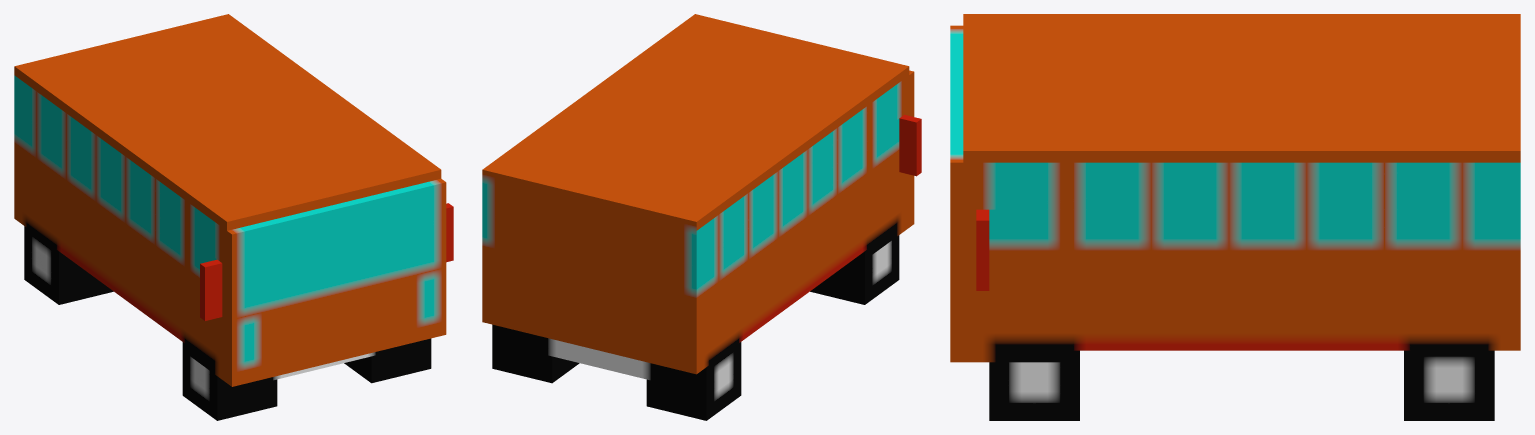
File: Car_53.fbx
3 renders of one model, left to right at view 1: azimuth 30°, elevation 25°; view 2: azimuth 150°, elevation 25°; view 3: azimuth 270°, elevation 25°, orthographic. The views are drawn at different scales.
Visible parts, largest first — view 1: Car_53; view 2: Car_53; view 3: Car_53.
Boxes of the visible parts, x1,y1,x2,y2 form: Car_53: (14,14,453,420); Car_53: (482,14,921,420); Car_53: (950,14,1520,420).
Size of the model in its own units: 29 by 23 by 44.
1 material, 1 textured.
